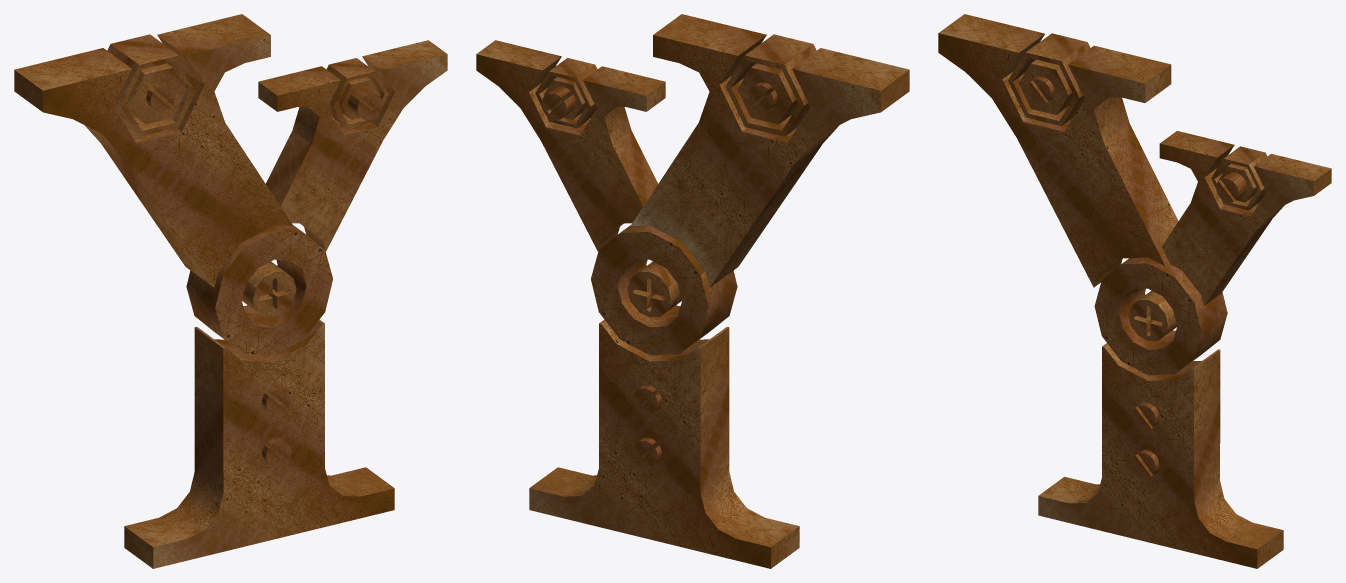
3 views of the same model, side by side, from view 1: azimuth 30°, elevation 25°; view 2: azimuth 150°, elevation 25°; view 3: azimuth 330°, elevation 25° (orthographic). The views are drawn at different scales.
Visible parts, largest first — view 1: Y, NGon_009, NGon_010, Screw_482, Screw_805, Screw_804, Screw_779, Screw_810; view 2: Y, NGon_009, NGon_010, Screw_482, Screw_805, Screw_804, Screw_779, Screw_810; view 3: Y, NGon_009, NGon_010, Screw_482, Screw_805, Screw_779, Screw_804, Screw_810.
Boxes of the visible parts, <box> form: Y: <box>14,14,447,568</box>; NGon_009: <box>107,34,198,136</box>; NGon_010: <box>326,58,388,128</box>; Screw_482: <box>242,261,296,317</box>; Screw_805: <box>348,87,382,119</box>; Screw_804: <box>146,82,175,111</box>; Screw_779: <box>262,385,291,414</box>; Screw_810: <box>262,438,291,467</box>; Y: <box>476,14,909,568</box>; NGon_009: <box>725,34,816,136</box>; NGon_010: <box>535,58,597,128</box>; Screw_482: <box>627,261,681,317</box>; Screw_805: <box>541,87,575,119</box>; Screw_804: <box>748,82,777,111</box>; Screw_779: <box>632,385,661,414</box>; Screw_810: <box>632,438,661,467</box>; Y: <box>938,14,1331,568</box>; NGon_009: <box>1008,33,1090,125</box>; NGon_010: <box>1211,146,1267,210</box>; Screw_482: <box>1128,290,1177,340</box>; Screw_805: <box>1216,172,1247,202</box>; Screw_779: <box>1133,402,1159,429</box>; Screw_804: <box>1028,76,1054,103</box>; Screw_810: <box>1133,450,1159,477</box>.
Size of the model in its own units: 82.04 by 97.12 by 12.89.
Materials: 1 (1 with a texture image).
